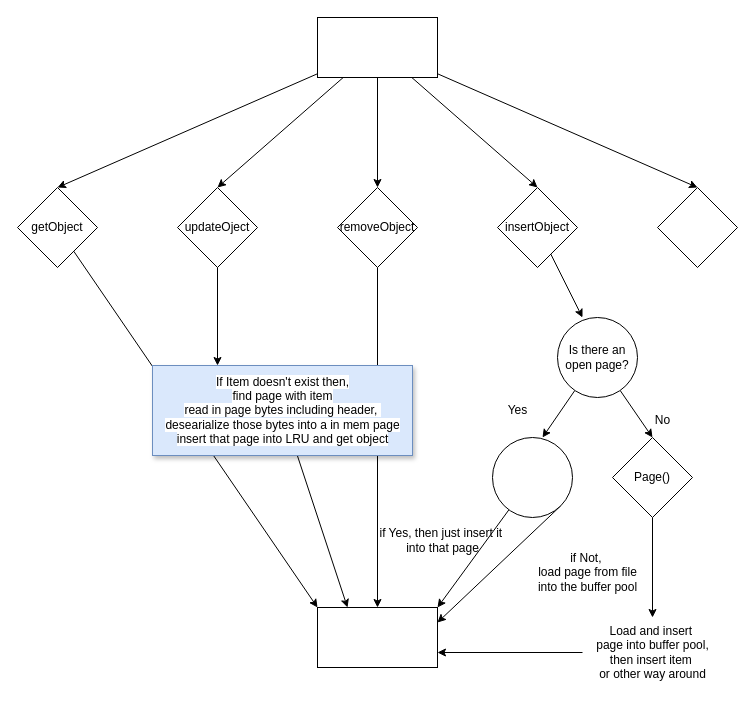
The diagram is 755 pixels wide and 705 high, and some of its shapes have lost their labels. The shapes that lost their labels are listed below. From the top down, each one's centre as x and y in pixels, then its label:
the point at 377,47: HeapPage
the point at 532,477: Does it exist in the buffer pool
the point at 377,637: Buffer Pool
